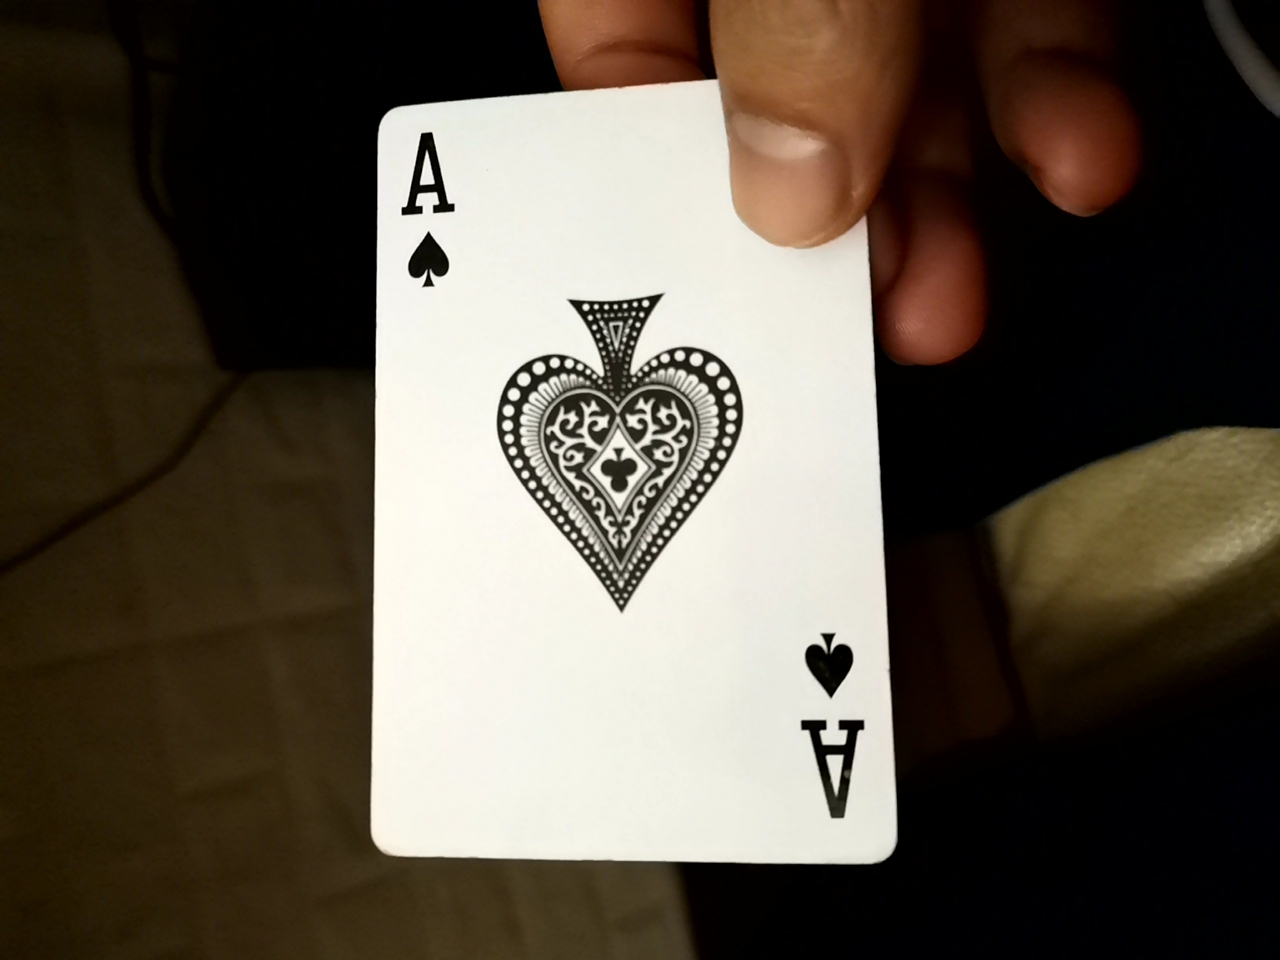ht a: (333, 75, 919, 899)
